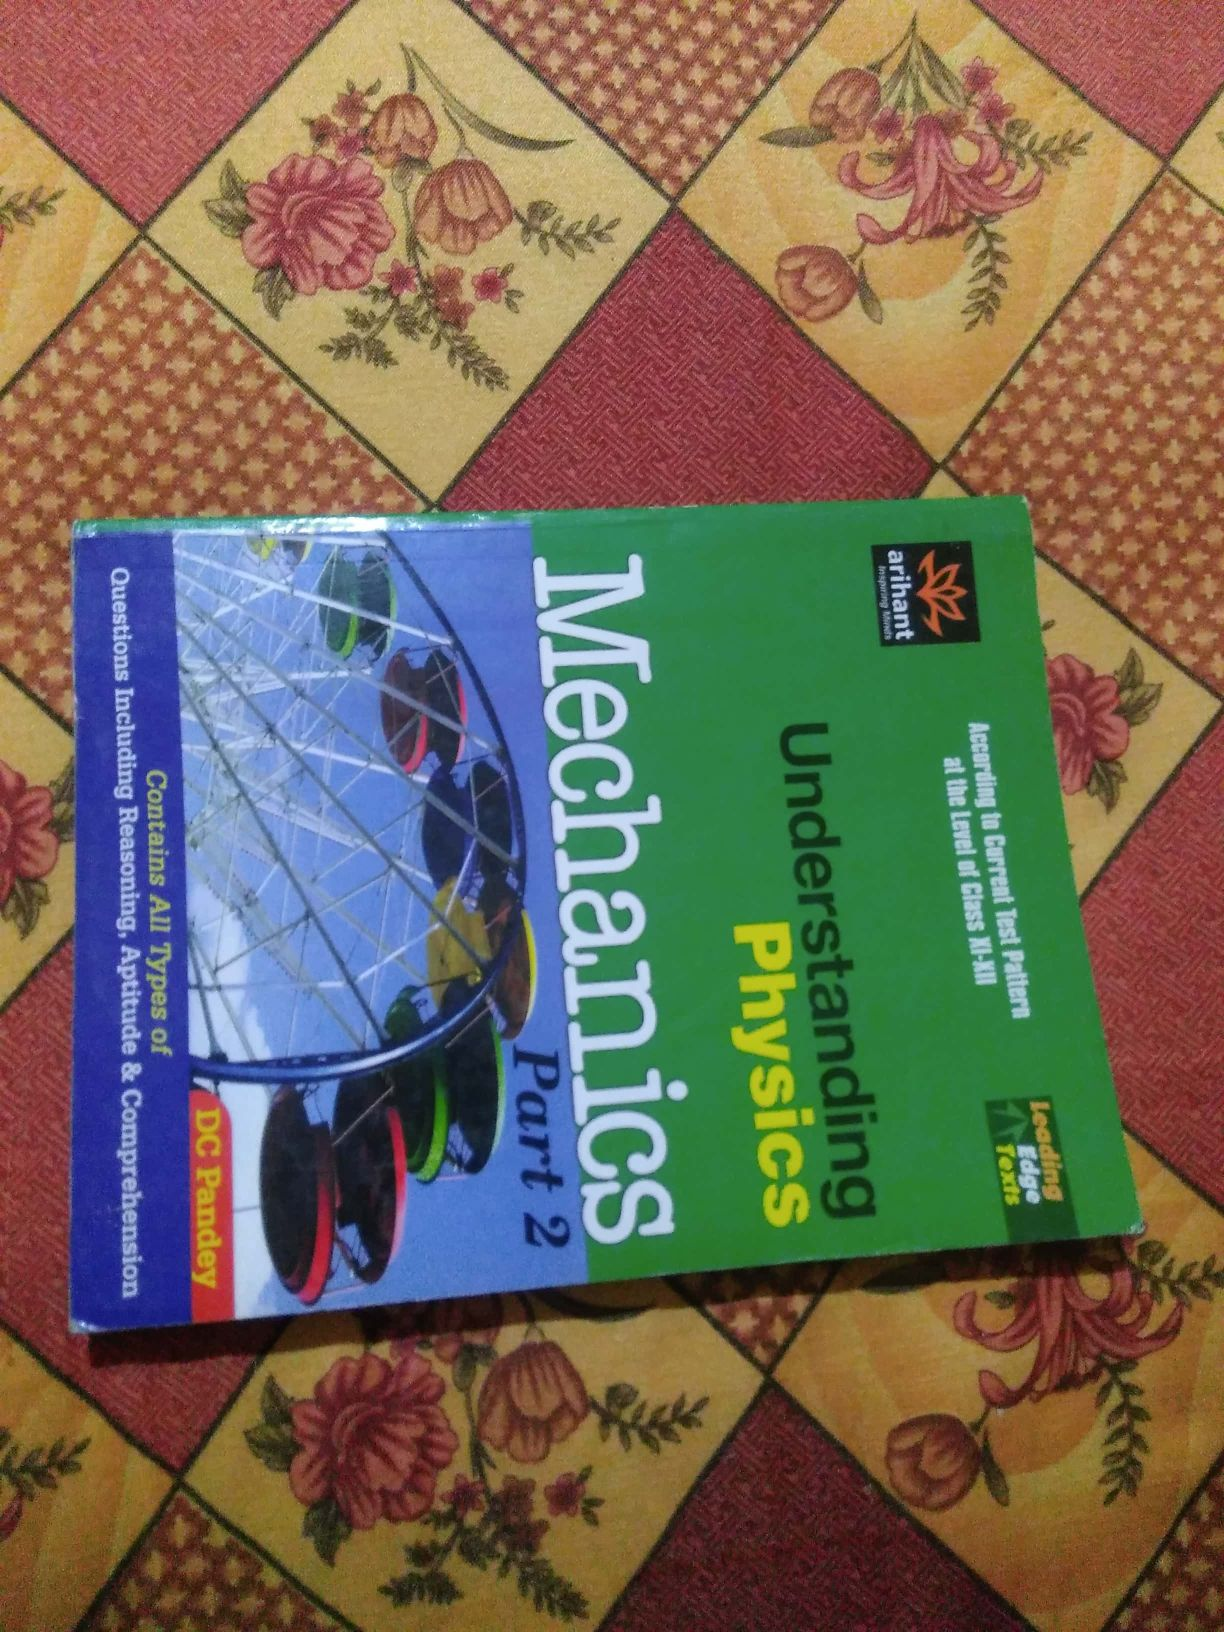mechanics: (46, 493, 1153, 1329)
